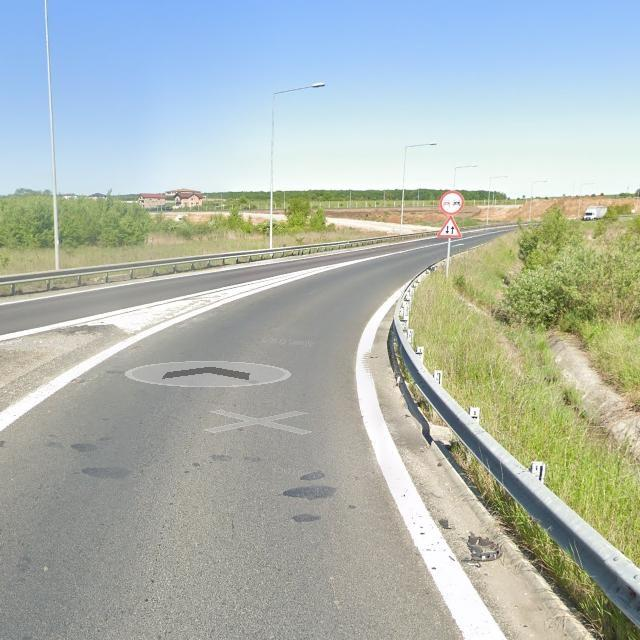forb_overtake: (440, 189, 465, 215)
